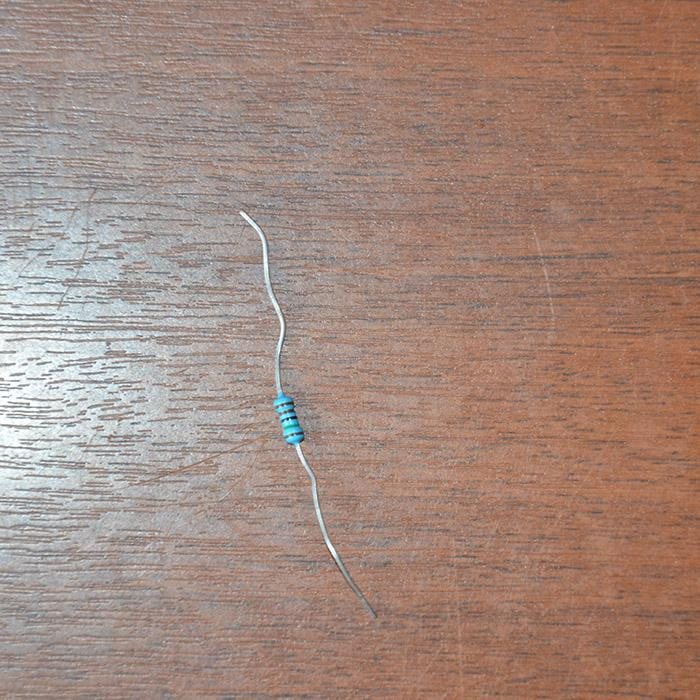resistor: (270, 391, 306, 446)
